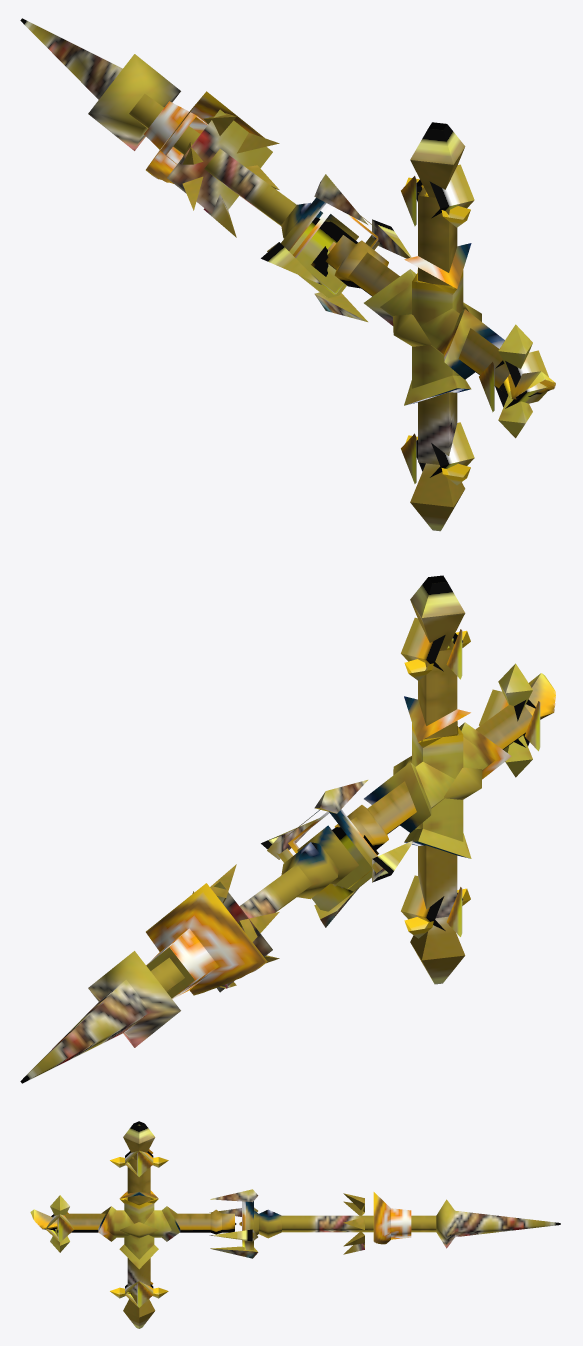
3 views of the same model, one above another, from view 1: azimuth 30°, elevation 25°; view 2: azimuth 150°, elevation 25°; view 3: azimuth 270°, elevation 25° (orthographic). The views are drawn at different scales.
Parts seen in each view (by area): view 1: mRod; view 2: mRod; view 3: mRod.
Part boxes in pixels (bbox=[...]): mRod: bbox=[20, 18, 555, 531]; mRod: bbox=[20, 575, 555, 1083]; mRod: bbox=[30, 1121, 560, 1328].
Size of the model in its own units: 0.1531 by 0.4724 by 1.1.
